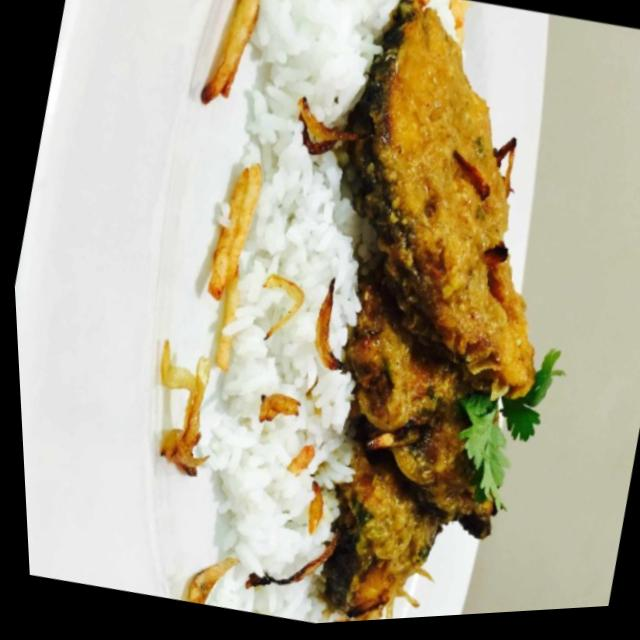FISH FRY: (314, 0, 538, 619)
RICE: (196, 0, 396, 623)
